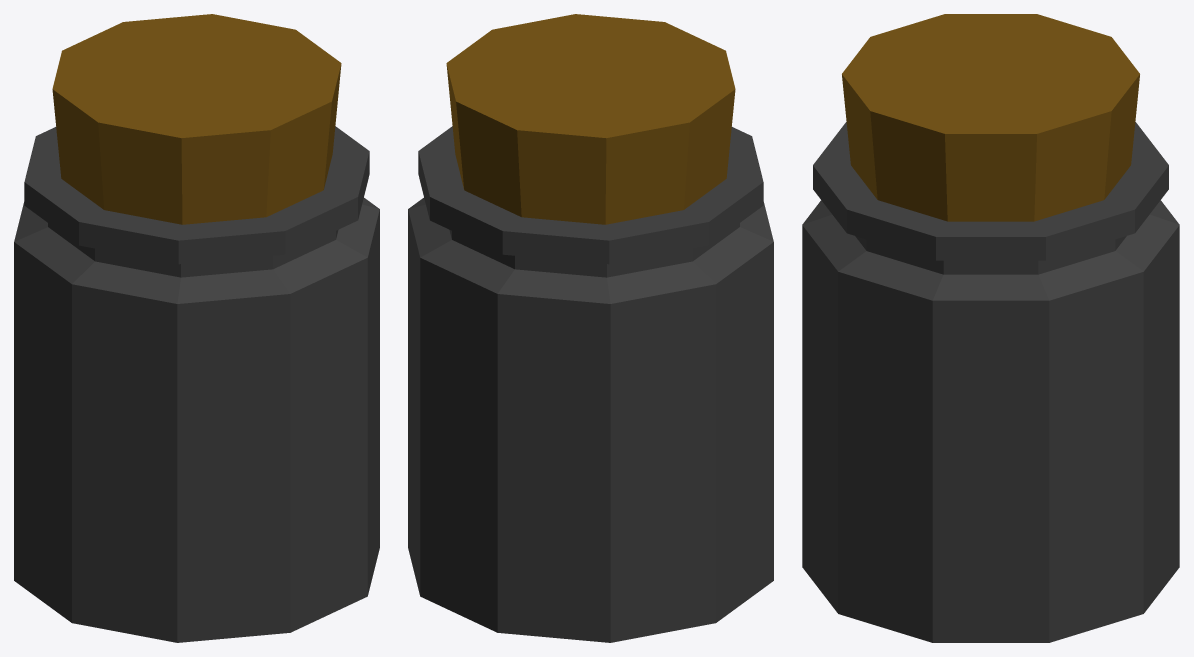
Rendered from inkcontainer.gltf.
The picture shows the model from 3 angles, left to right: view 1: azimuth 30°, elevation 25°; view 2: azimuth 150°, elevation 25°; view 3: azimuth 270°, elevation 25°; orthographic projection.
Parts seen in each view (by area): view 1: Cylinder; view 2: Cylinder; view 3: Cylinder.
Part boxes in pixels (box(x1,y1,x2,y2)): Cylinder: box(14, 14, 379, 642); Cylinder: box(408, 14, 773, 642); Cylinder: box(802, 14, 1179, 642).
Size of the model in its own units: 0.0299 by 0.0453 by 0.0315.
Materials: 1 (1 with a texture image).
